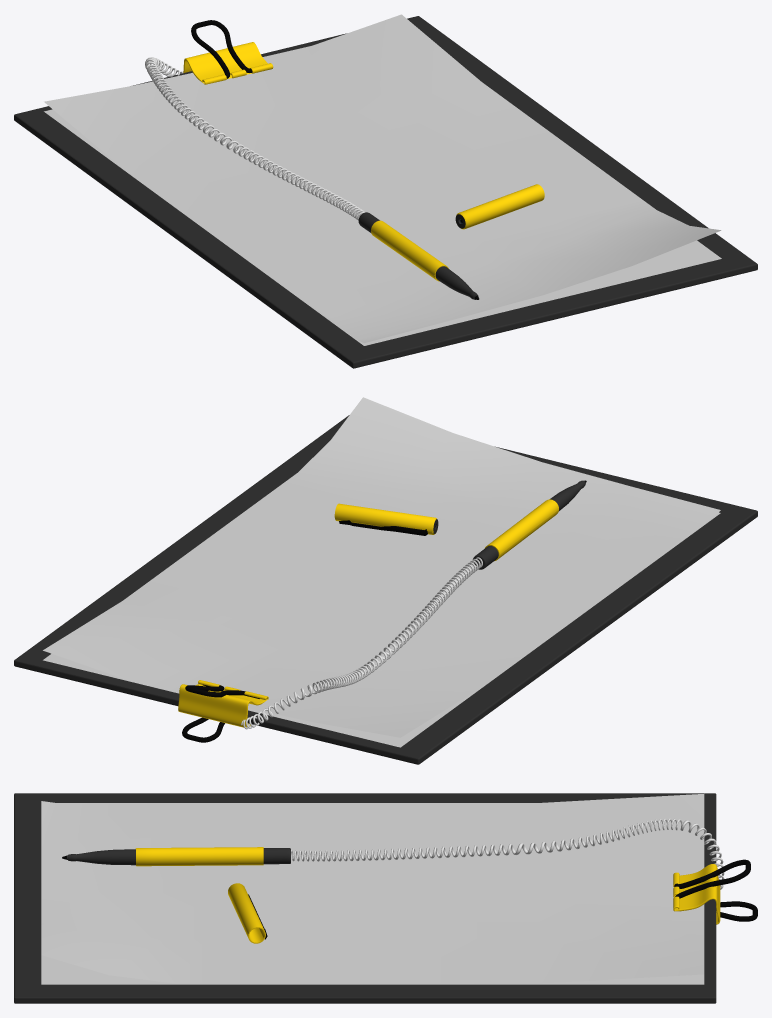
The model's file is clipboard.fbx.
3 views of the same model, one above another, from view 1: azimuth 30°, elevation 25°; view 2: azimuth 150°, elevation 25°; view 3: azimuth 270°, elevation 25° (orthographic). The views are drawn at different scales.
Visible parts, largest first — view 1: Plane03, Box01, Plane01, Collapse_A, Helix01, Plane02, Line03.Line02; view 2: Plane03, Box01, Collapse_A, Helix01, Plane01, Plane02; view 3: Plane03, Box01, Collapse_A, Helix01, Plane01, Plane02, Line03.Line02, Line03.
Boxes of the visible parts, <box> form: Plane03: <box>44,14,721,343</box>; Box01: <box>14,16,757,368</box>; Plane01: <box>44,109,721,345</box>; Collapse_A: <box>358,184,544,299</box>; Helix01: <box>145,57,365,220</box>; Plane02: <box>183,42,273,84</box>; Line03.Line02: <box>191,20,252,78</box>; Plane03: <box>43,397,720,737</box>; Box01: <box>14,415,757,764</box>; Collapse_A: <box>334,480,586,569</box>; Helix01: <box>241,557,482,729</box>; Plane01: <box>43,512,720,747</box>; Plane02: <box>178,680,268,727</box>; Plane03: <box>41,794,704,983</box>; Box01: <box>14,793,716,1003</box>; Collapse_A: <box>62,847,290,943</box>; Helix01: <box>291,818,724,889</box>; Plane01: <box>41,955,704,984</box>; Plane02: <box>673,864,720,924</box>; Line03.Line02: <box>674,859,750,898</box>; Line03: <box>720,901,757,921</box>.
Bounding box in the file's own units: 0.2251 × 0.0272 × 0.3458.
